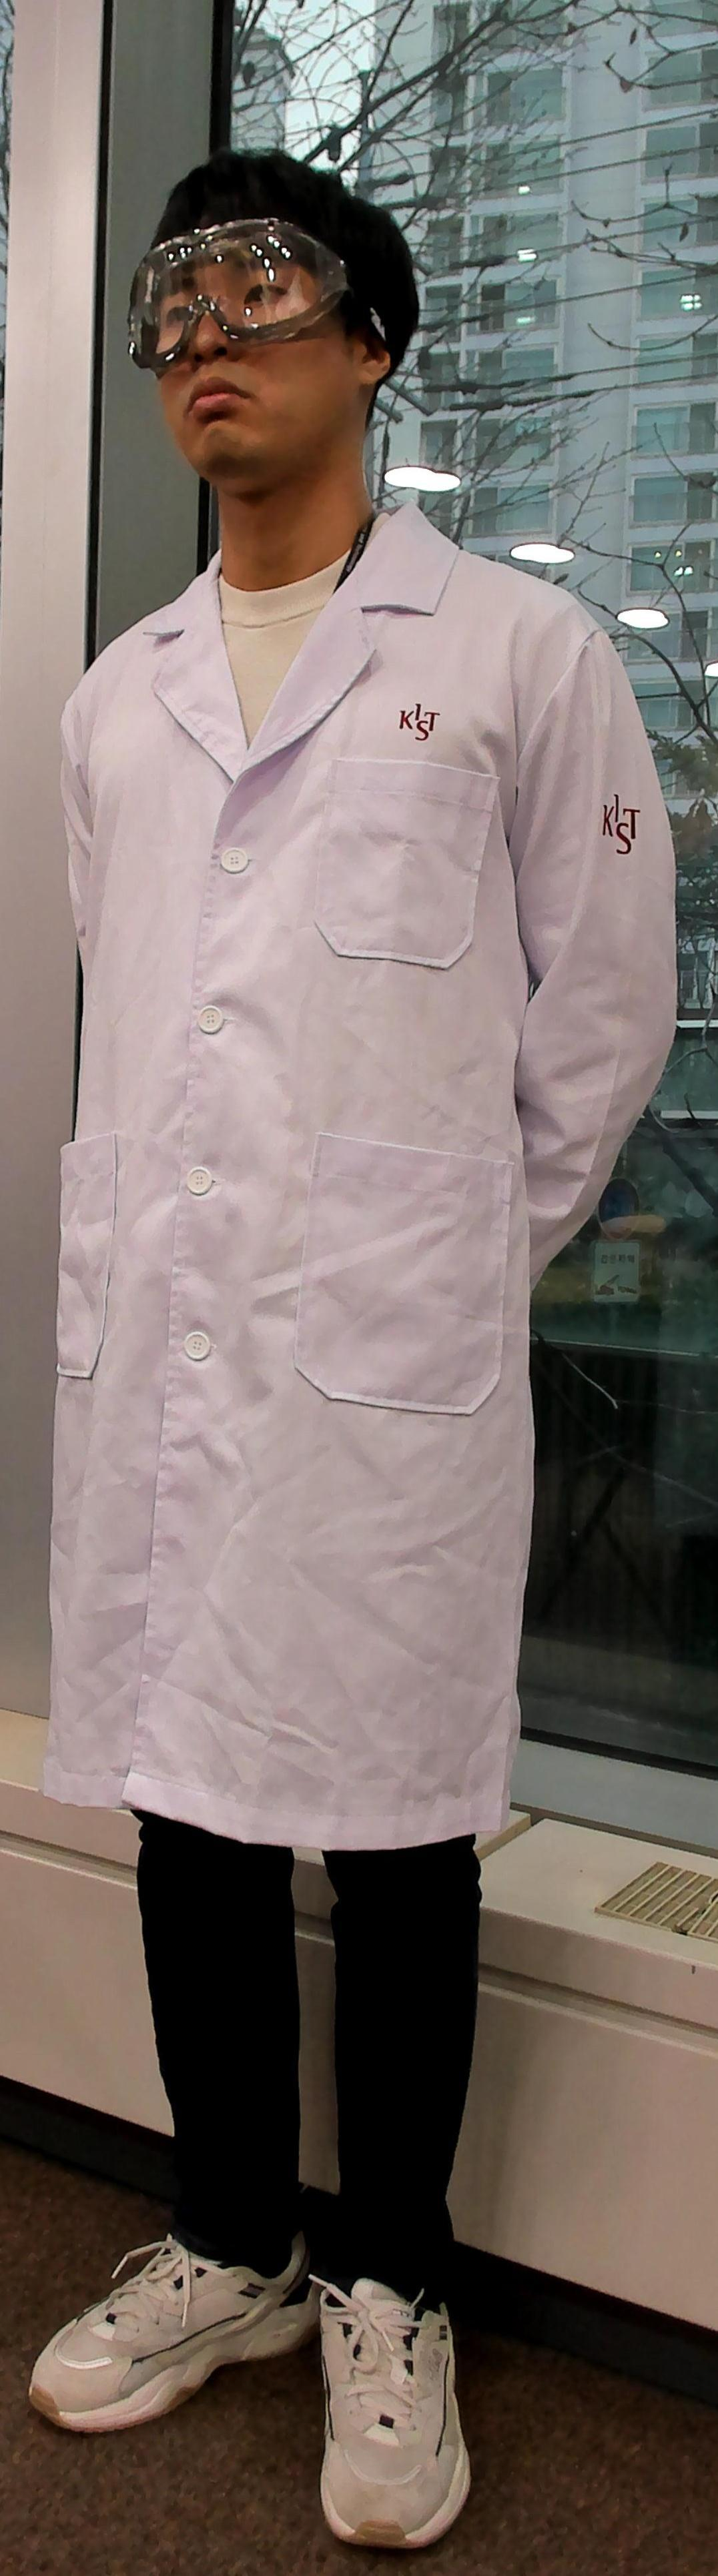lab_coat: (48, 636, 555, 1817)
